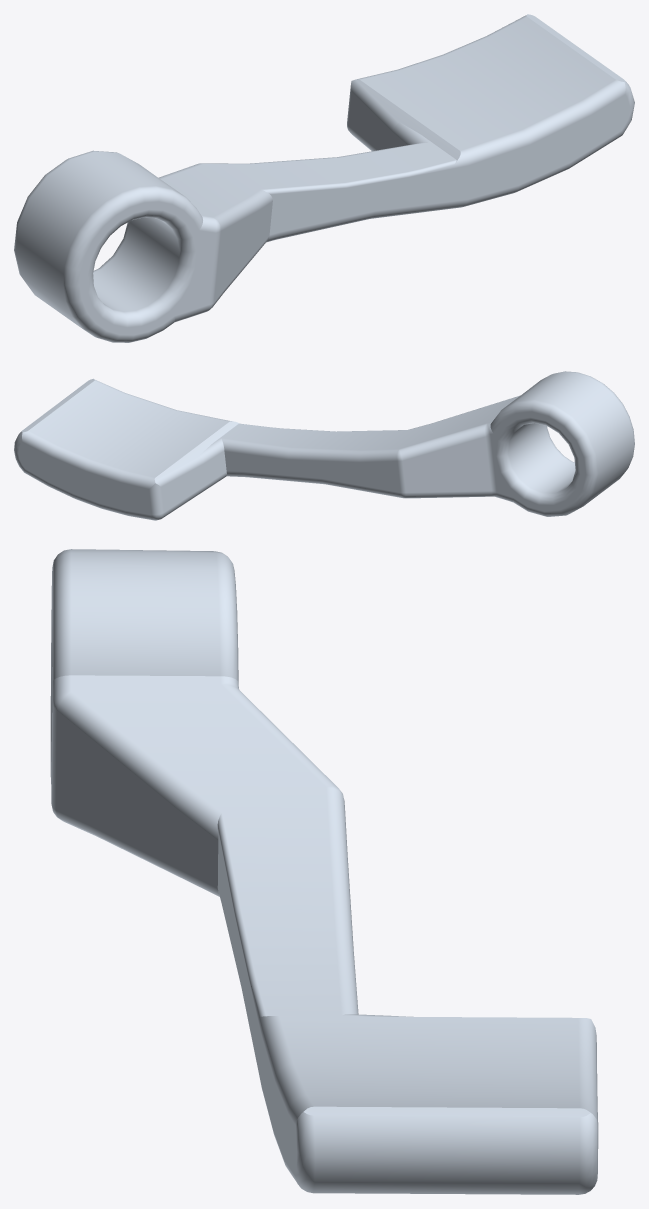
The model's file is RB-004_viewer.glb.
3 renders of one model, top to bottom at view 1: azimuth 30°, elevation 25°; view 2: azimuth 150°, elevation 25°; view 3: azimuth 270°, elevation 25°, orthographic. The views are drawn at different scales.
Visible parts, largest first — view 1: basebody_imported1; view 2: basebody_imported1; view 3: basebody_imported1.
Part boxes in pixels (x1,y1,x2,y2): basebody_imported1: (14, 14, 634, 342); basebody_imported1: (14, 371, 634, 520); basebody_imported1: (50, 549, 598, 1194).
Size of the model in its own units: 0.00921 by 0.00228 by 0.00444.
